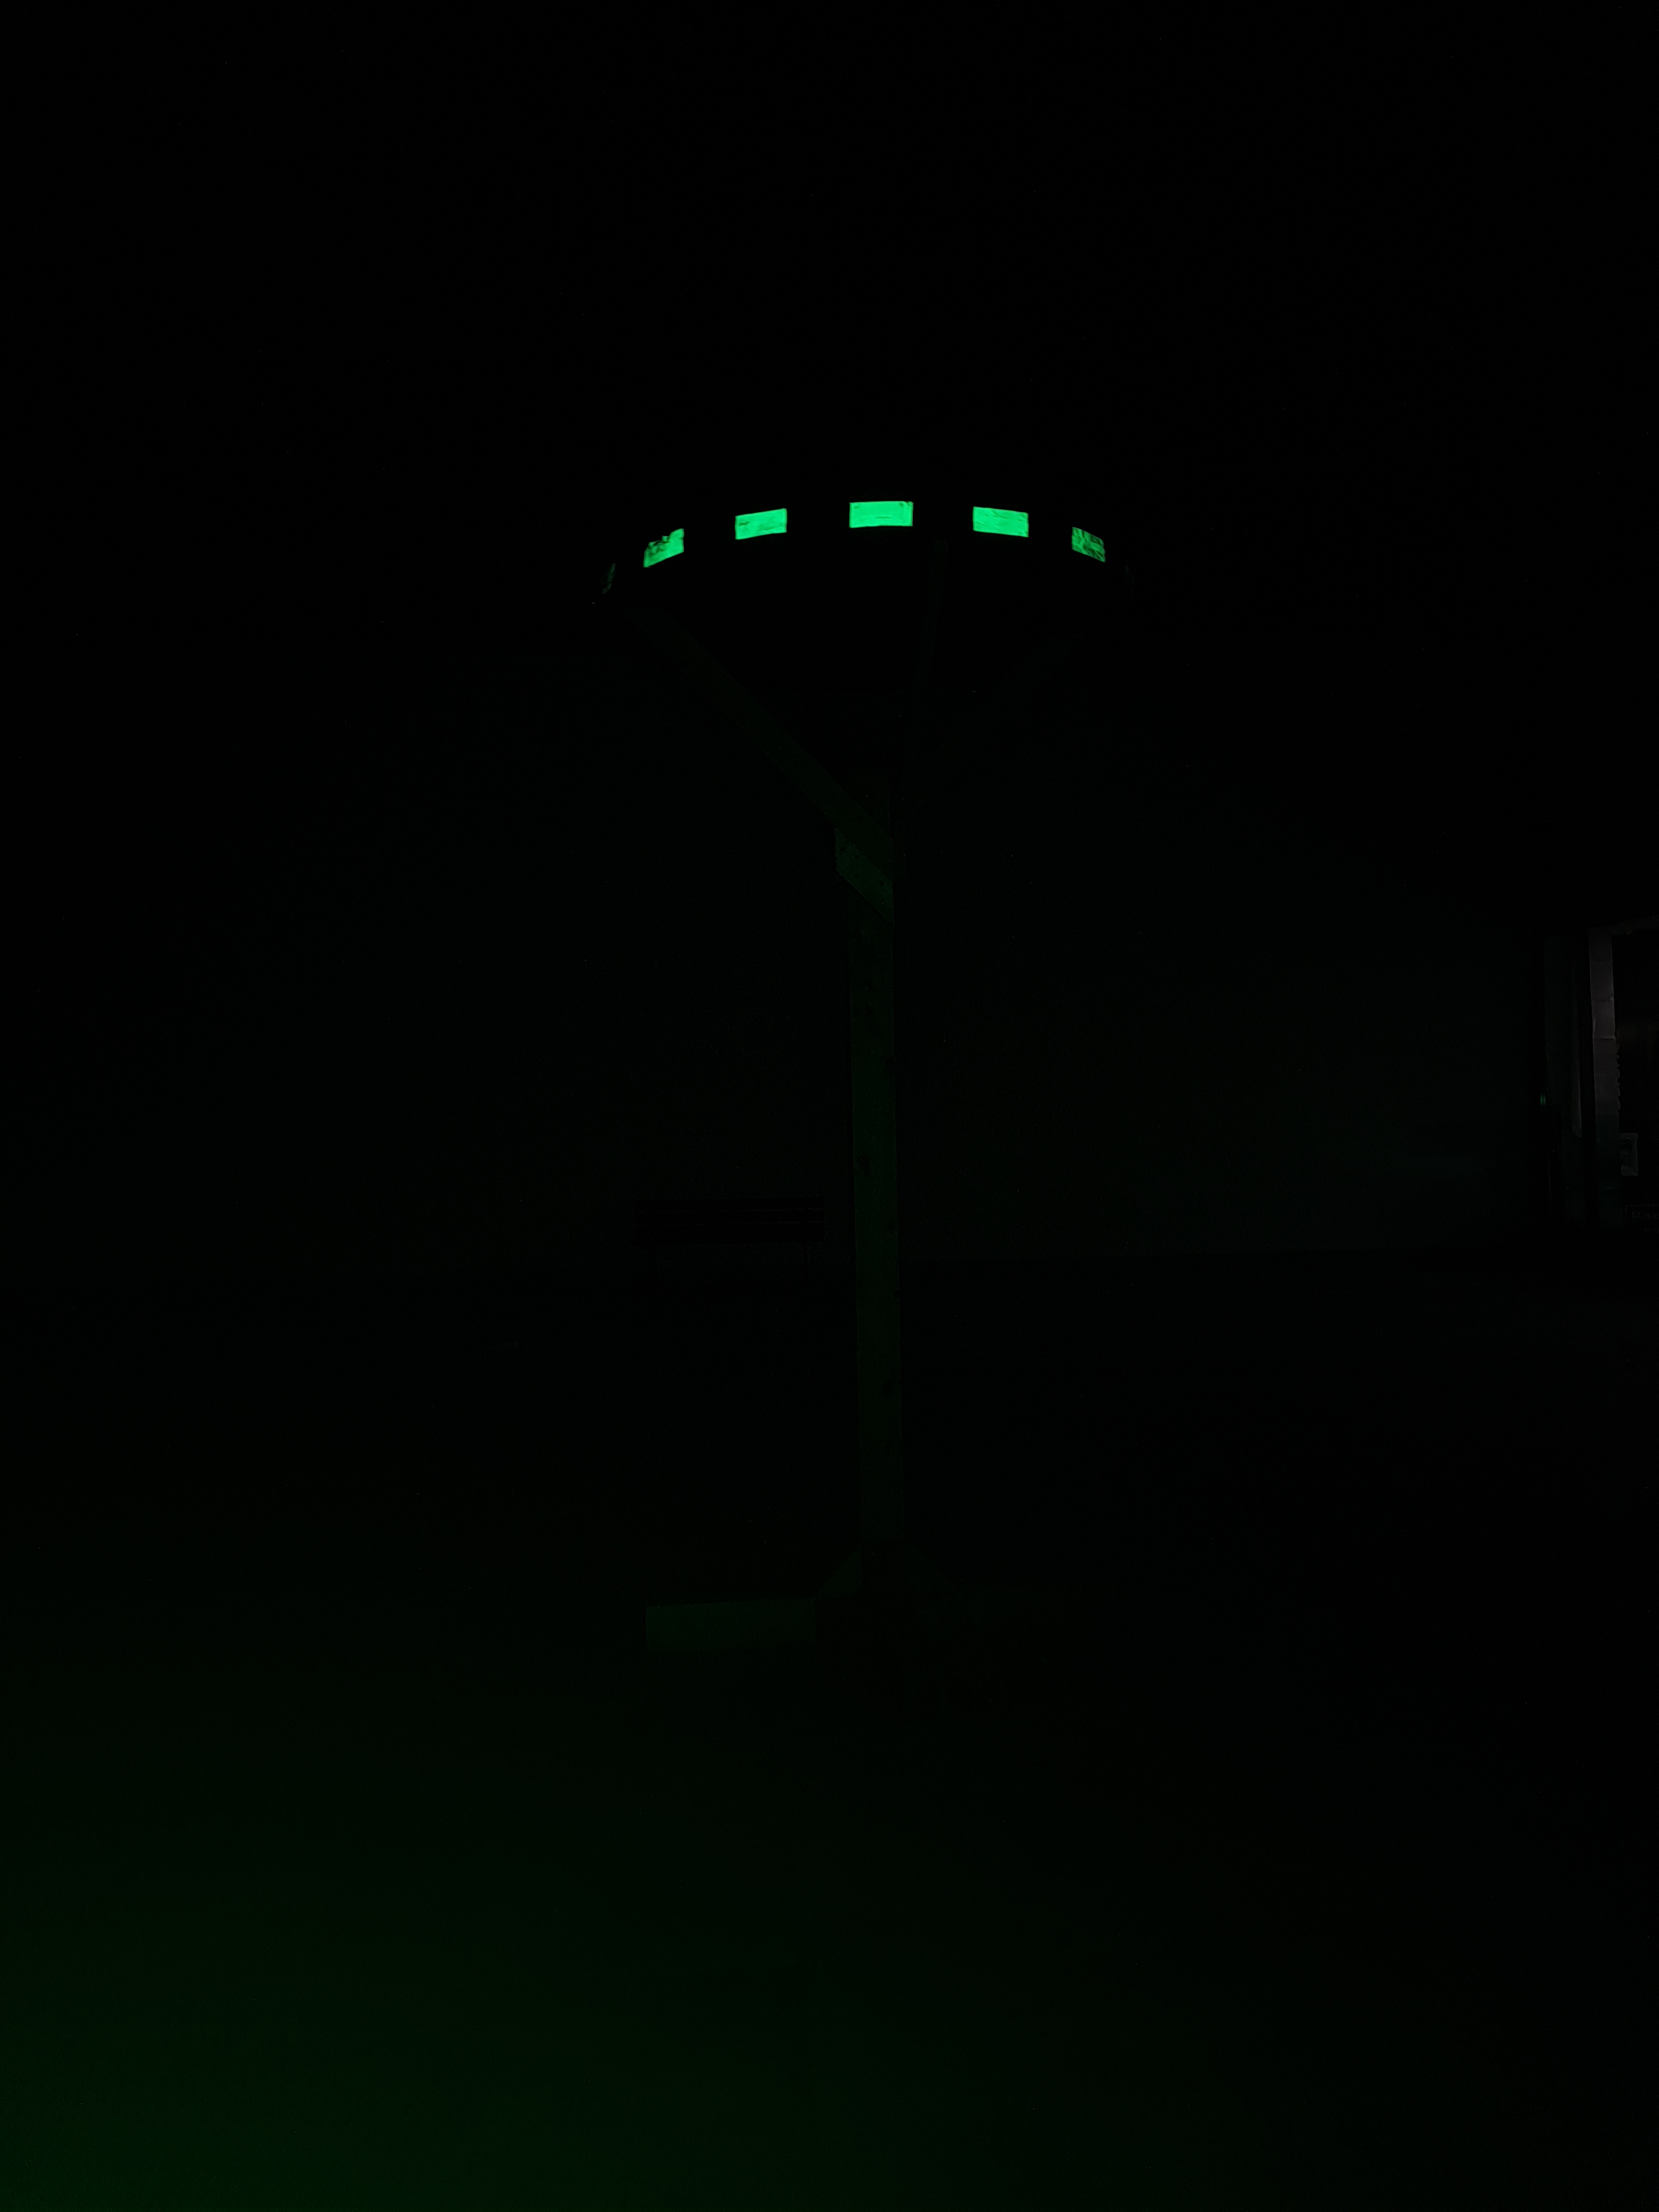hoop: (641, 495, 1110, 570)
